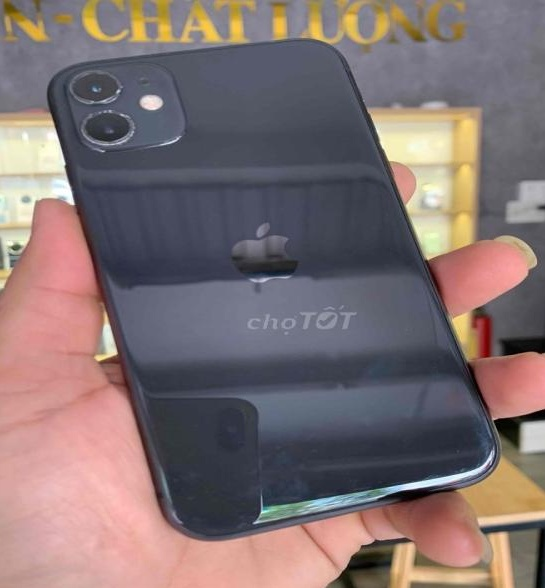scratch: (140, 467, 266, 541), (377, 431, 501, 485), (85, 105, 150, 154), (99, 79, 132, 109), (75, 94, 108, 112)
